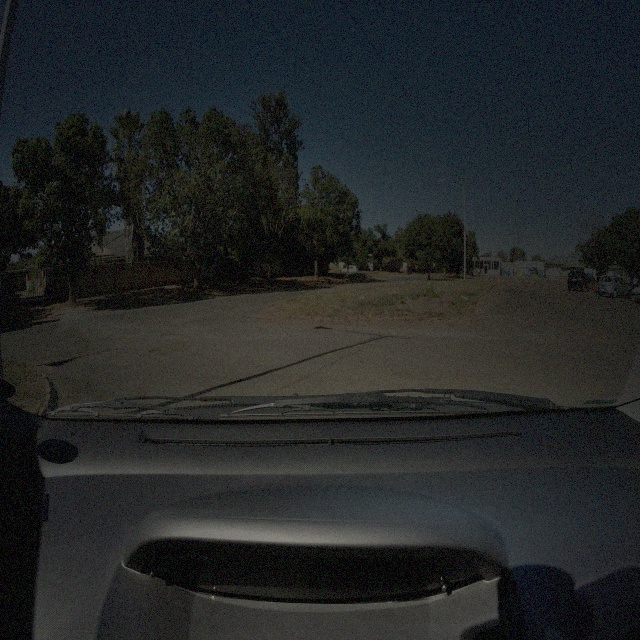pothole: (150, 337, 192, 356), (585, 331, 604, 342), (471, 317, 485, 327)
